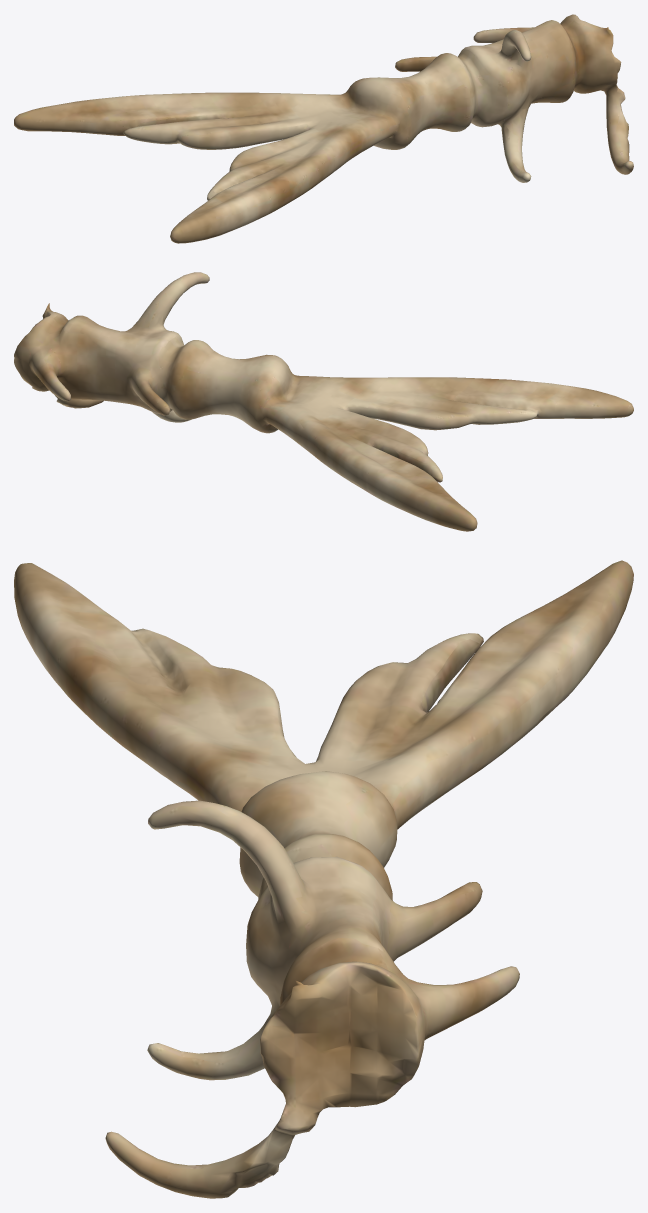
Rendered from bone_shard_s.glb.
3 renders of one model, top to bottom at view 1: azimuth 30°, elevation 25°; view 2: azimuth 150°, elevation 25°; view 3: azimuth 270°, elevation 25°, orthographic. The views are drawn at different scales.
Visible parts, largest first — view 1: bone_shard_s; view 2: bone_shard_s; view 3: bone_shard_s.
Boxes of the visible parts, box(x1,y1,x2,y2) form: bone_shard_s: box(14, 14, 633, 243); bone_shard_s: box(14, 272, 633, 531); bone_shard_s: box(14, 560, 633, 1198).
Bounding box in the file's own units: 0.3 × 0.0854 × 0.1607.
Materials: 1 (1 with a texture image).
